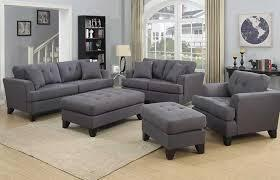chair: (193, 73, 280, 145), (139, 102, 207, 159)
door: (178, 0, 209, 71), (143, 1, 177, 59)
light: (114, 43, 132, 72), (238, 45, 249, 69), (231, 46, 238, 67)
sofa: (3, 62, 113, 116), (51, 92, 143, 133), (121, 58, 200, 102)
table: (224, 68, 280, 78)
